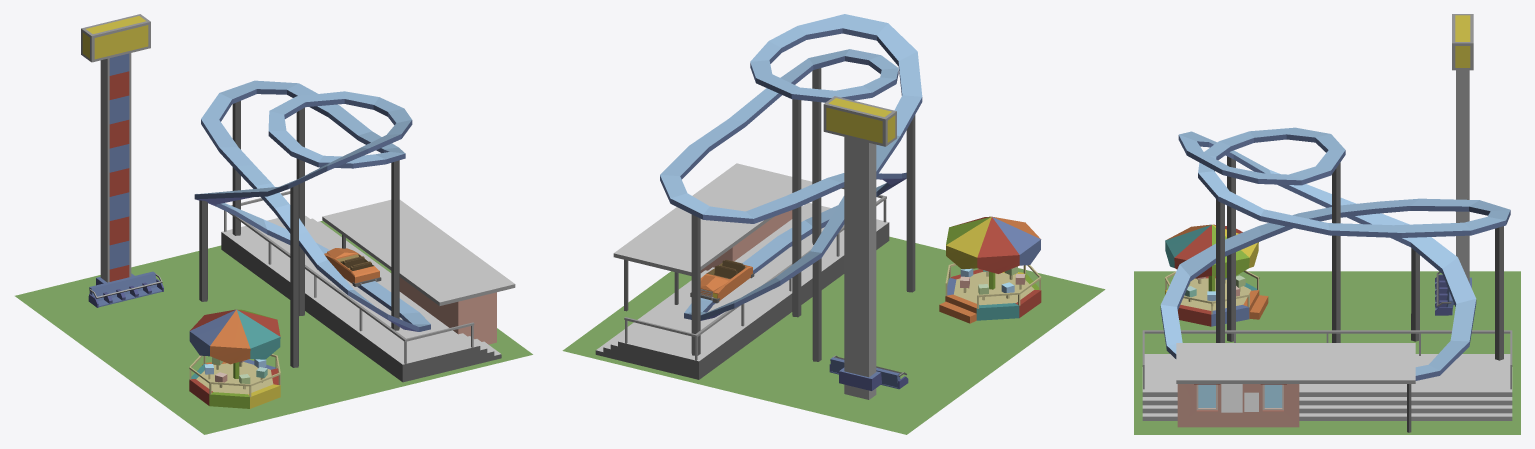
The model's file is landscape_entertainment_003.fbx.
3 renders of one model, left to right at view 1: azimuth 30°, elevation 25°; view 2: azimuth 150°, elevation 25°; view 3: azimuth 270°, elevation 25°, orthographic. The views are drawn at different scales.
Visible parts, largest first — view 1: landscape_entertainment_003; view 2: landscape_entertainment_003; view 3: landscape_entertainment_003.
Boxes of the visible parts, x1,y1,x2,y2 form: landscape_entertainment_003: [15, 14, 532, 434]; landscape_entertainment_003: [562, 14, 1105, 434]; landscape_entertainment_003: [1134, 14, 1520, 434].
Bounding box in the file's own units: 1613 × 1292 × 1600.
